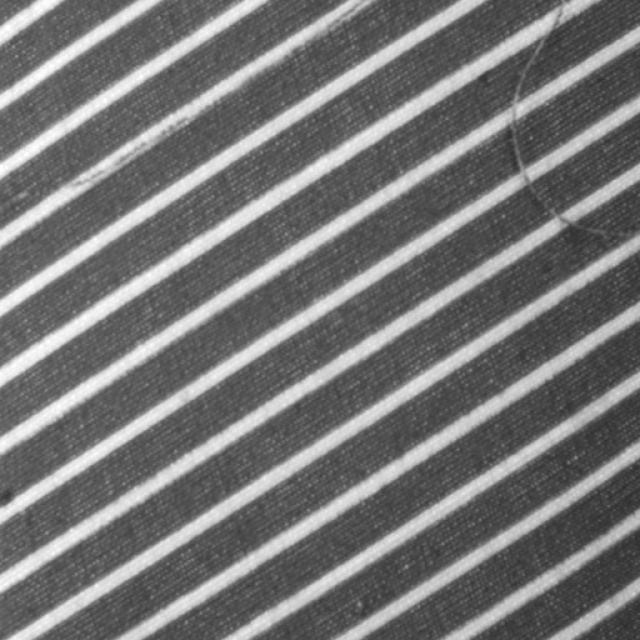Foreign-Body-Defect: (509, 0, 635, 246)
